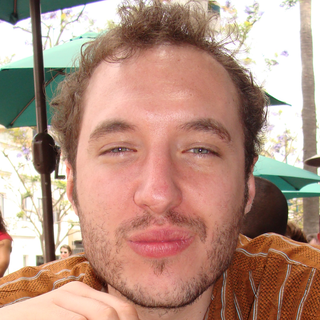eye: (179, 140, 226, 164), (94, 139, 142, 162)
